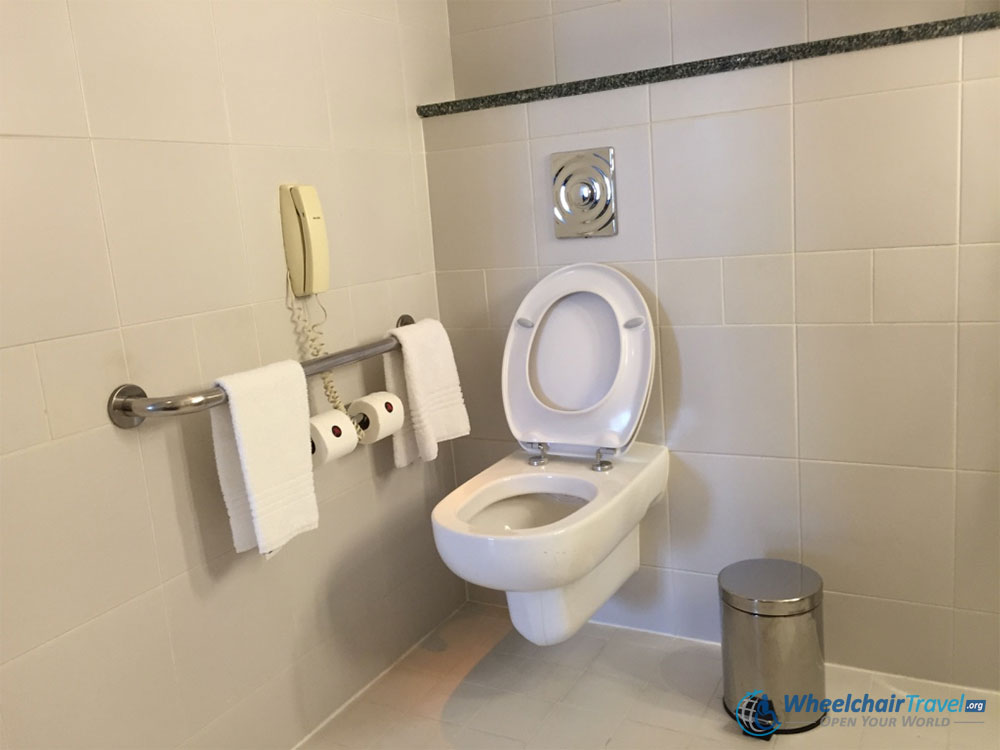restroom_assist_bar: (106, 315, 416, 427)
telephone: (277, 184, 329, 301)
toilet: (425, 263, 670, 648)
waste_bin: (717, 559, 827, 735)
